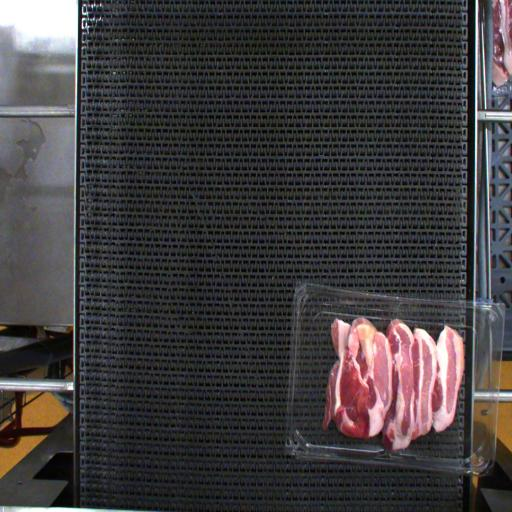packaging-error: (387, 302, 406, 322)
